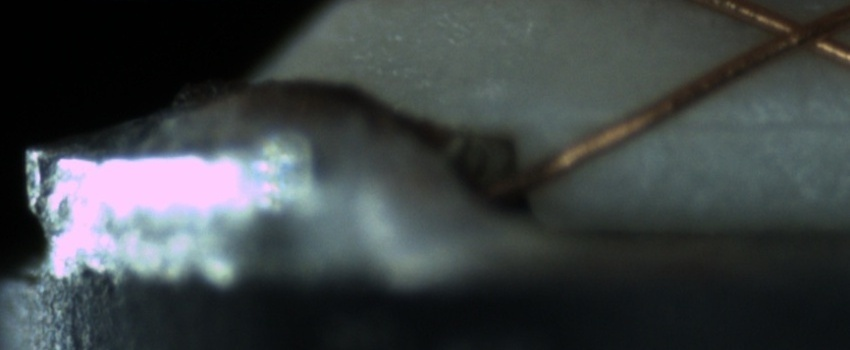CL: (746, 2, 847, 62)
DL: (633, 88, 849, 157)
